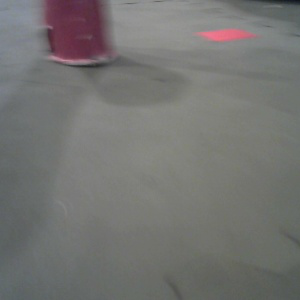middle: (37, 1, 121, 66)
